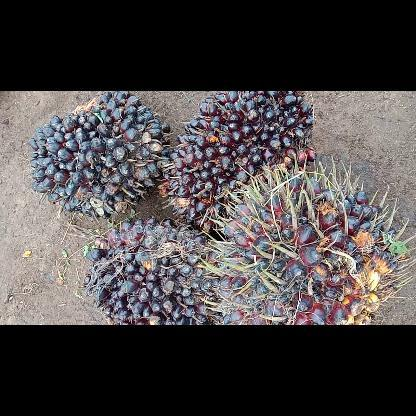TBS mentah: (212, 170, 401, 324), (160, 90, 319, 233), (25, 91, 173, 223), (78, 214, 228, 324)
